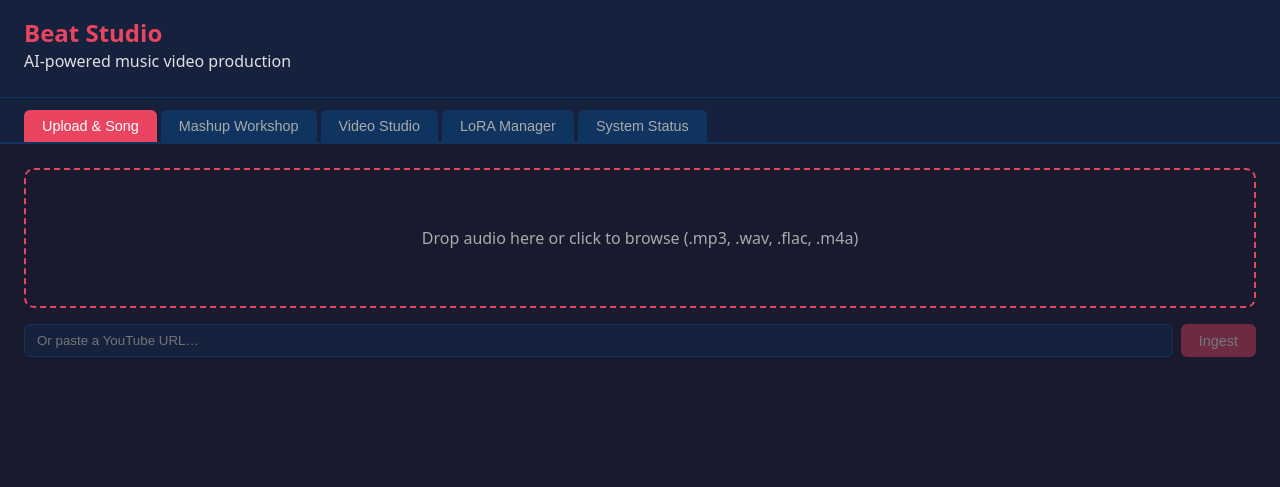
it: App › switches to mashup tab on click
This screenshot has width=1280, height=487.
Click the button "Mashup Workshop".
click(239, 126)  # box [161,110,316,142]
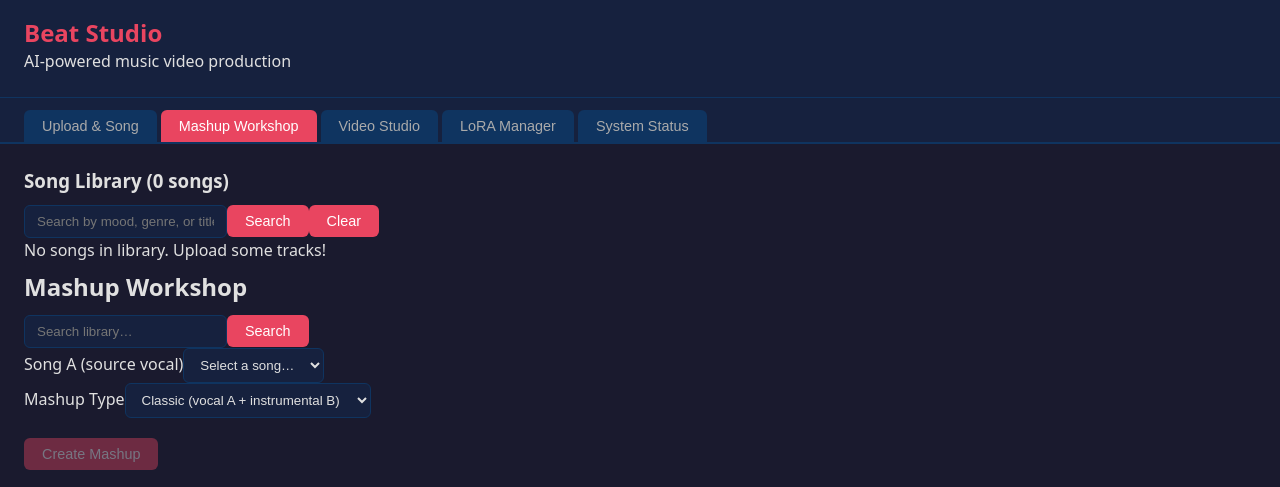
expect the element with test id "mashup-workshop" is shown: met, box [24,270,370,470]
